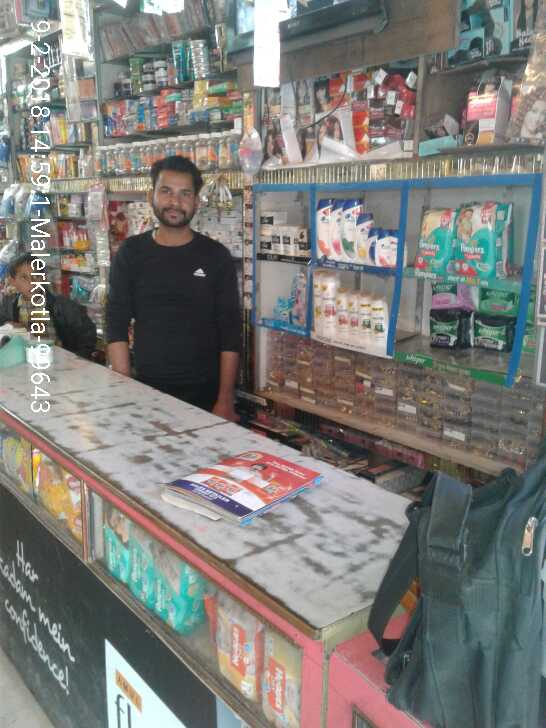venus: (272, 300, 290, 322)
